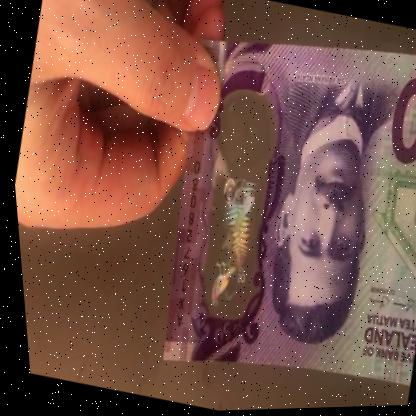50F: (180, 109, 287, 320)
